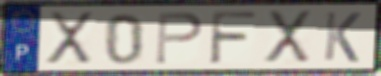0: (103, 11, 147, 65)
F: (207, 9, 260, 66)
K: (321, 10, 364, 64)
P: (153, 10, 205, 66)
X: (44, 10, 96, 67), (262, 9, 314, 66)
